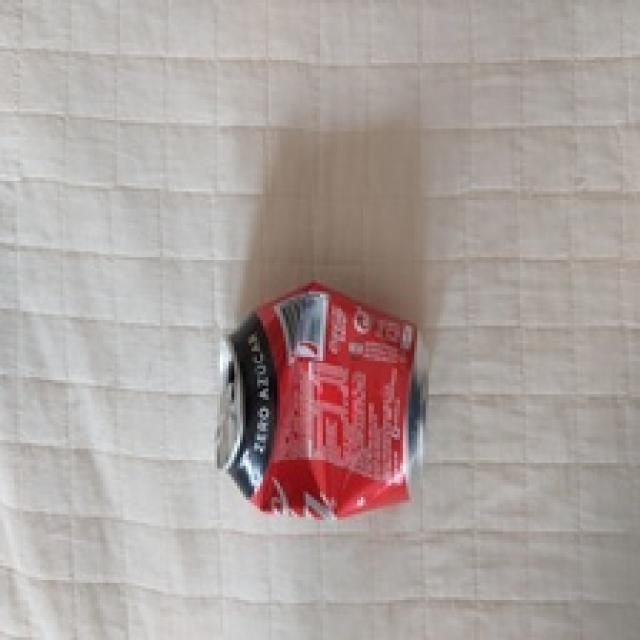recyclable: (213, 280, 432, 522)
